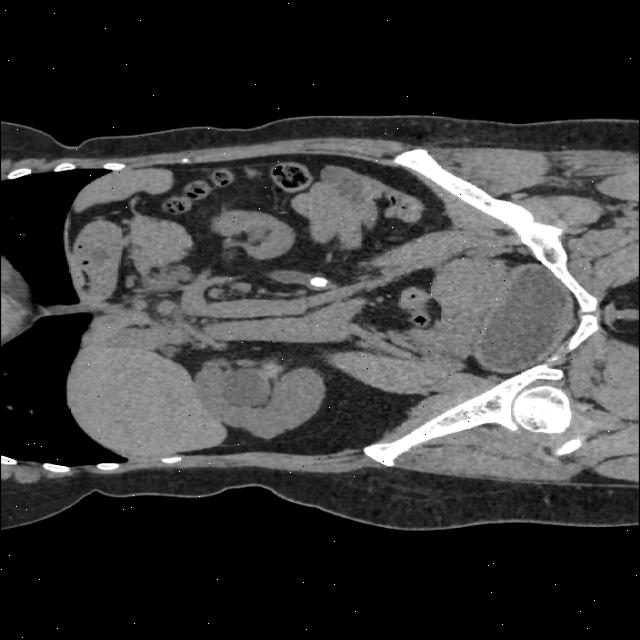kidneystone: (309, 275, 329, 289)
